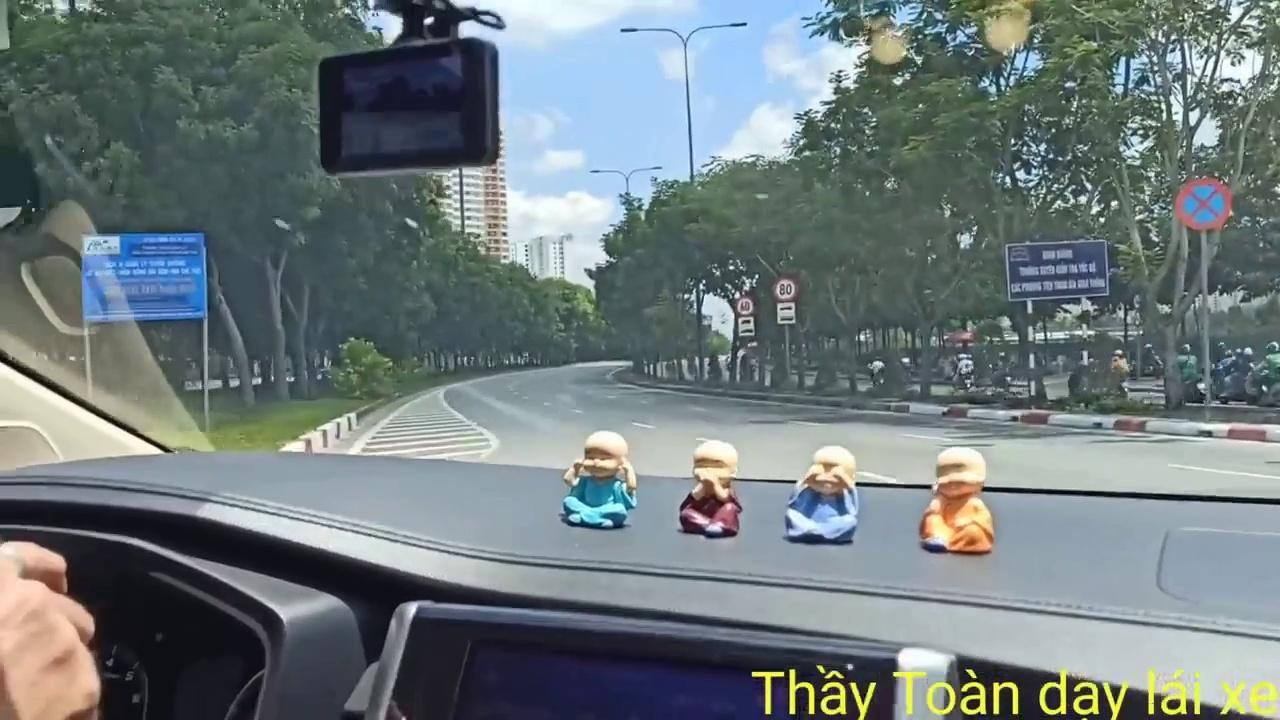Biển phụ: (776, 304, 797, 325), (738, 316, 756, 336)
Cấm dừng - Cấm đỗ: (1174, 175, 1231, 231)
GIơi hạn tốc độ 60Km/h: (735, 294, 754, 315)
Giới hạn tốc độ 80Km/h: (772, 275, 799, 301)
Khác: (79, 230, 206, 322)
